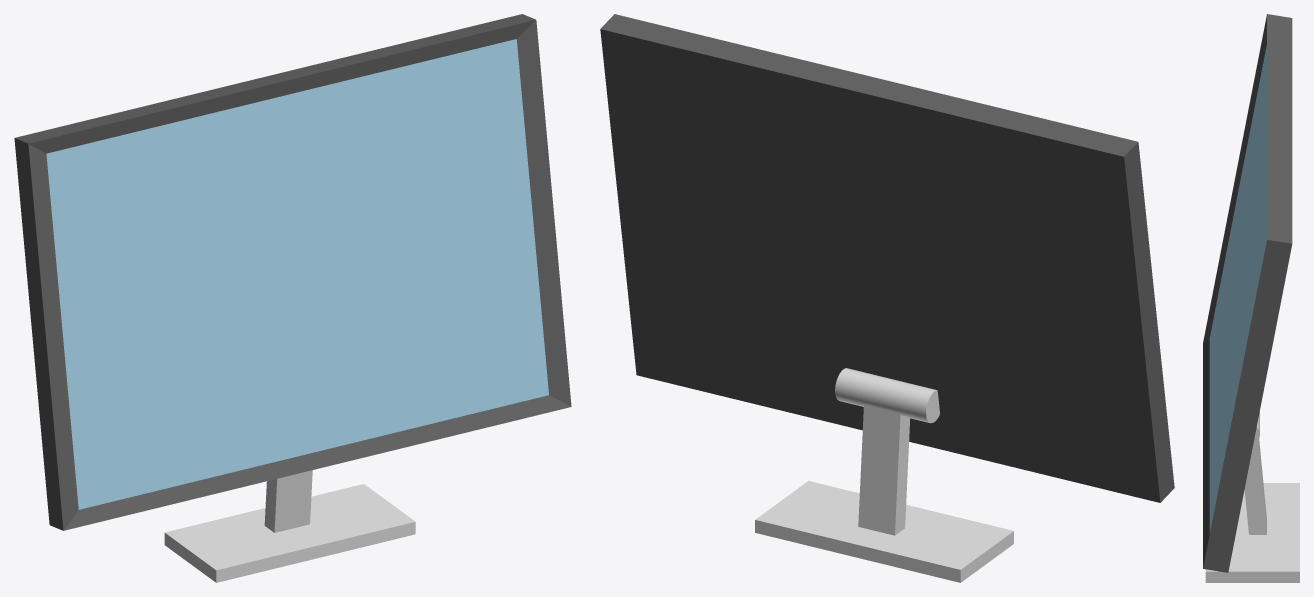
The model's file is PC Monitor.FBX.
3 renders of one model, left to right at view 1: azimuth 30°, elevation 25°; view 2: azimuth 150°, elevation 25°; view 3: azimuth 270°, elevation 25°, orthographic. The views are drawn at different scales.
Visible parts, largest first — view 1: Box001, Box003, Box002; view 2: Box001, Box003, Box002, Cylinder001; view 3: Box001, Box003, Box002.
Boxes of the visible parts, <box> form: Box001: <box>14,14,571,530</box>; Box003: <box>164,484,415,582</box>; Box002: <box>264,470,312,532</box>; Box001: <box>600,14,1174,502</box>; Box003: <box>755,481,1013,582</box>; Box002: <box>858,405,910,535</box>; Cylinder001: <box>835,368,939,423</box>; Box001: <box>1203,14,1292,572</box>; Box003: <box>1205,483,1299,582</box>; Box002: <box>1244,439,1266,534</box>.
Bounding box in the file's own units: 69.3 × 58.96 × 12.57.
